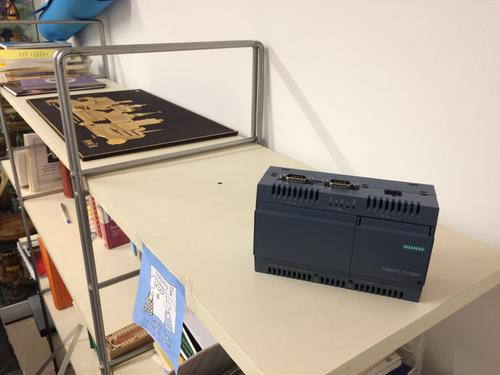iot2000: (252, 166, 440, 304)
